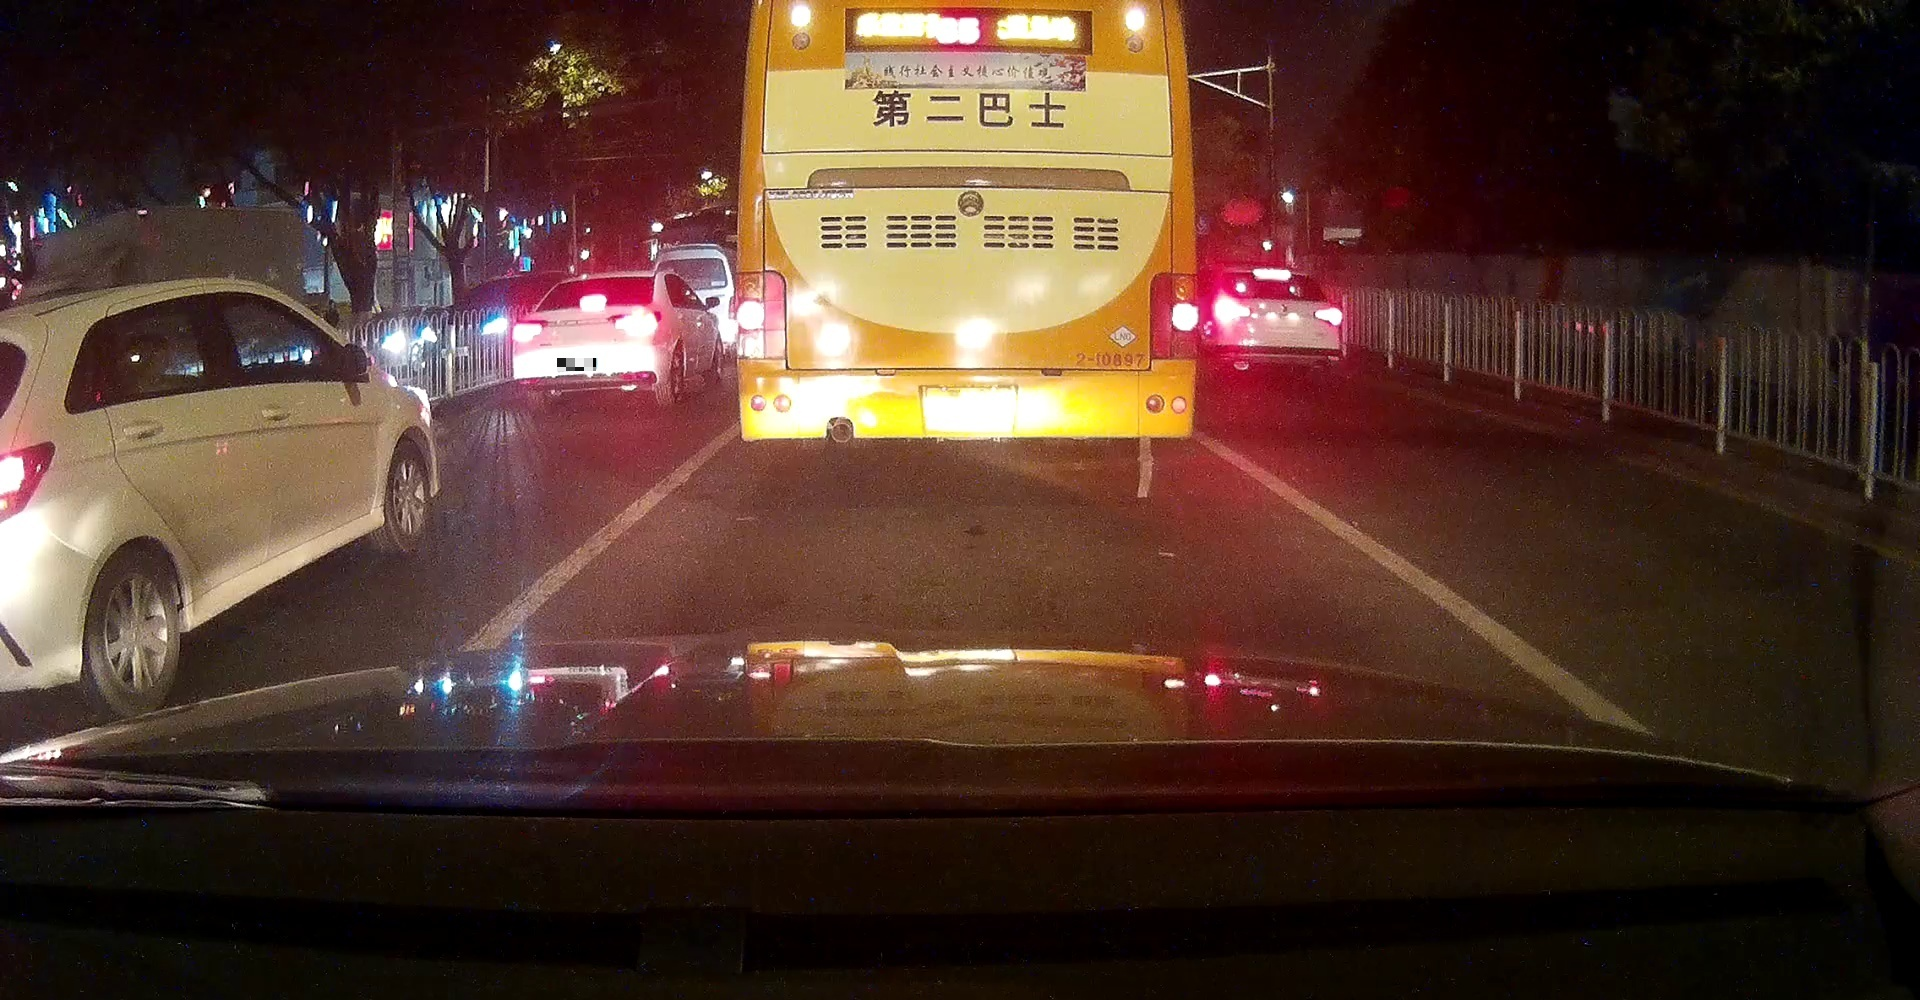L_light: (1214, 294, 1251, 322), (510, 320, 547, 341)
R_light: (608, 311, 662, 334), (1314, 307, 1343, 326)
T_light: (579, 294, 607, 312), (1253, 268, 1291, 280)
night-brake: (510, 272, 663, 415), (1211, 266, 1346, 377)
plate_1: (557, 358, 596, 371)
